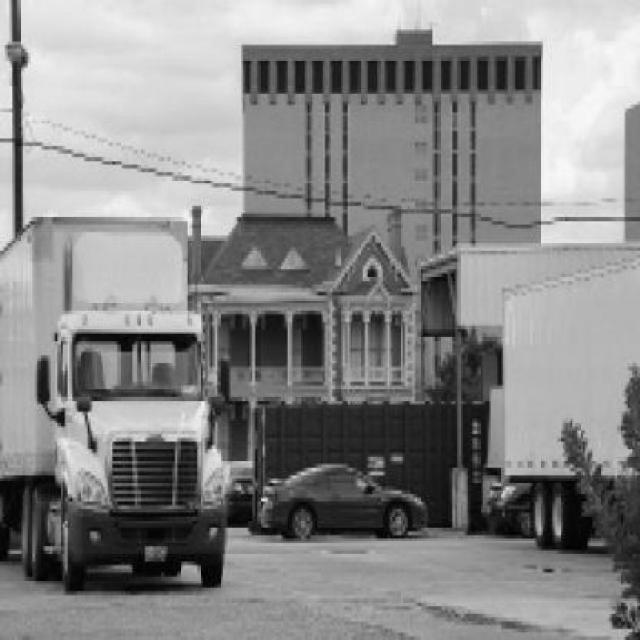Box Truck: (0, 216, 229, 593)
Sedan: (259, 464, 428, 539)
